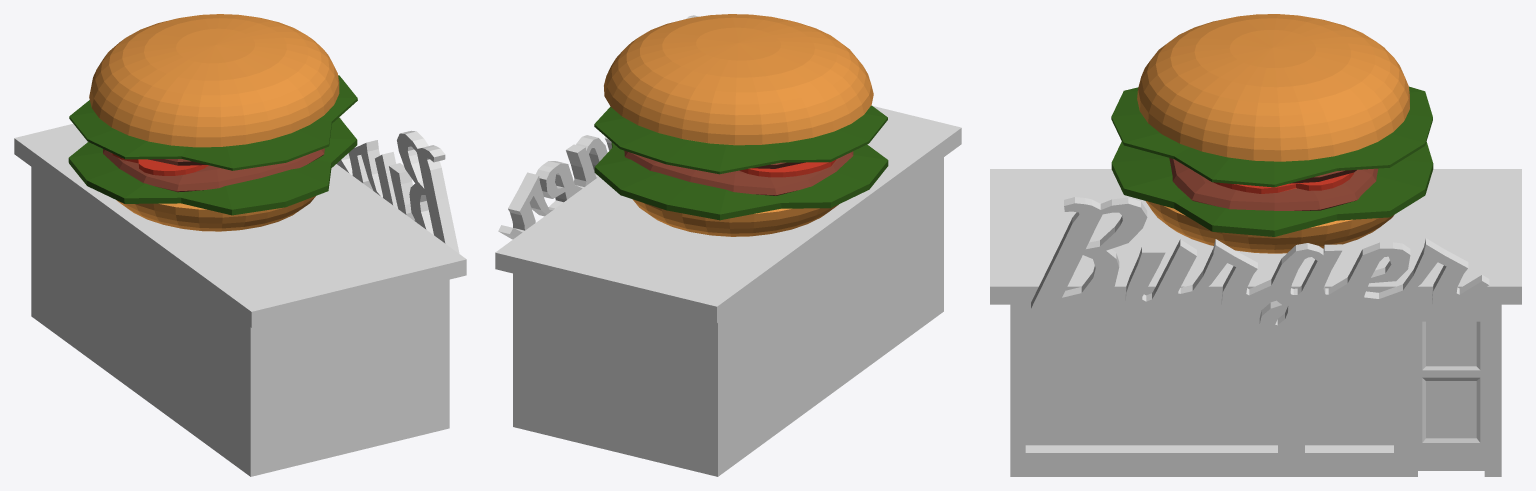
Rendered from burgerdetache.fbx.
3 views of the same model, side by side, from view 1: azimuth 30°, elevation 25°; view 2: azimuth 150°, elevation 25°; view 3: azimuth 270°, elevation 25° (orthographic). The views are drawn at different scales.
Visible parts, largest first — view 1: Cube, Cylinder.000, Plane; view 2: Cube, Cylinder.000, Plane; view 3: Cube, Cylinder.000, Plane, Cube.001.
Part boxes in pixels (left/top/right/bottom): Cube: left=14, top=124, right=466, bottom=476; Cylinder.000: left=68, top=14, right=357, bottom=231; Plane: left=337, top=117, right=459, bottom=253; Cube: left=495, top=106, right=961, bottom=476; Cylinder.000: left=594, top=14, right=888, bottom=236; Plane: left=498, top=15, right=698, bottom=239; Cube: left=990, top=169, right=1521, bottom=476; Cylinder.000: left=1111, top=14, right=1433, bottom=253; Plane: left=1031, top=197, right=1489, bottom=336; Cube.001: left=1418, top=321, right=1484, bottom=470.
Size of the model in its own units: 0.3983 by 0.4693 by 0.6191.
